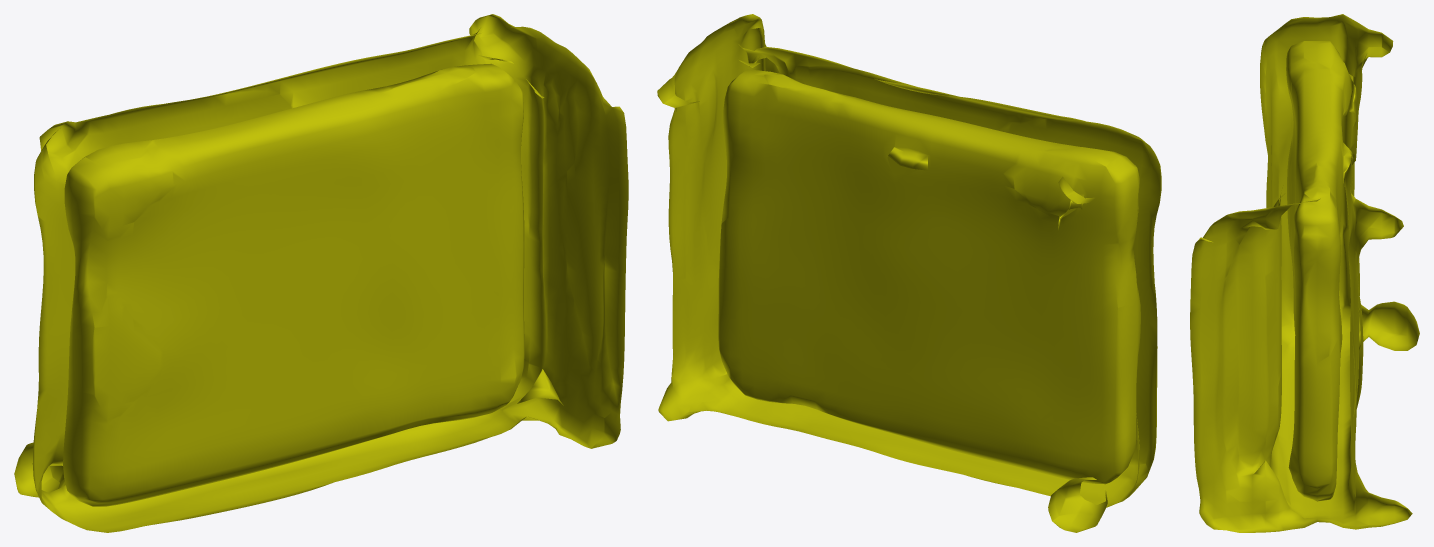
3 views of the same model, side by side, from view 1: azimuth 30°, elevation 25°; view 2: azimuth 150°, elevation 25°; view 3: azimuth 270°, elevation 25° (orthographic). The views are drawn at different scales.
Visible parts, largest first — view 1: world; view 2: world; view 3: world.
Part boxes in pixels (<box>): world: <box>14,14,628,532</box>; world: <box>657,14,1161,532</box>; world: <box>1190,14,1419,532</box>.
Size of the model in its own units: 39.08 by 28.99 by 17.8.
